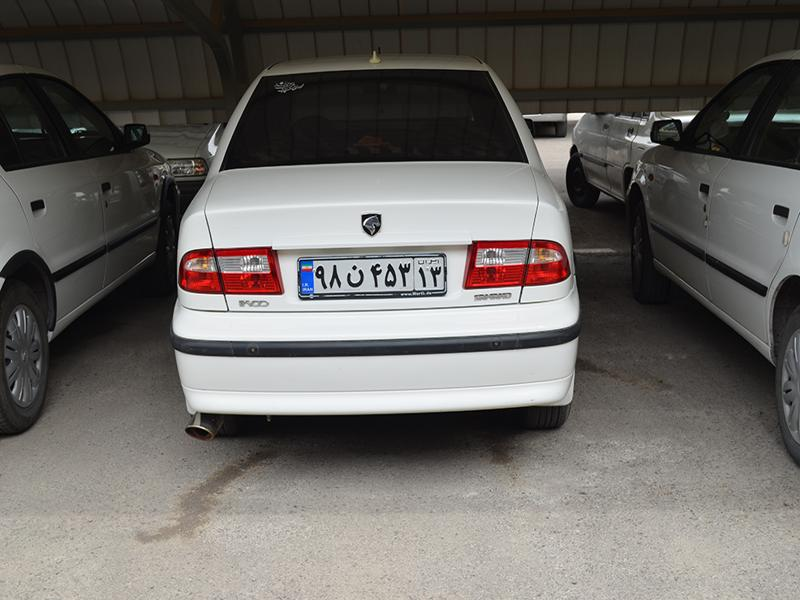Plate: (289, 249, 456, 306)
